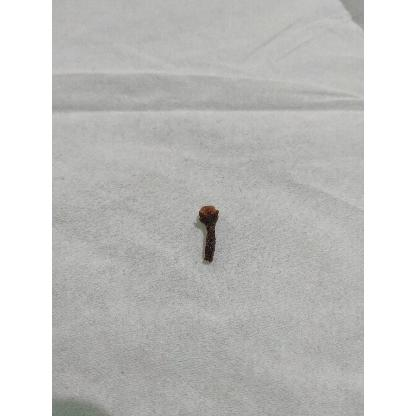sedang: (198, 205, 220, 264)
